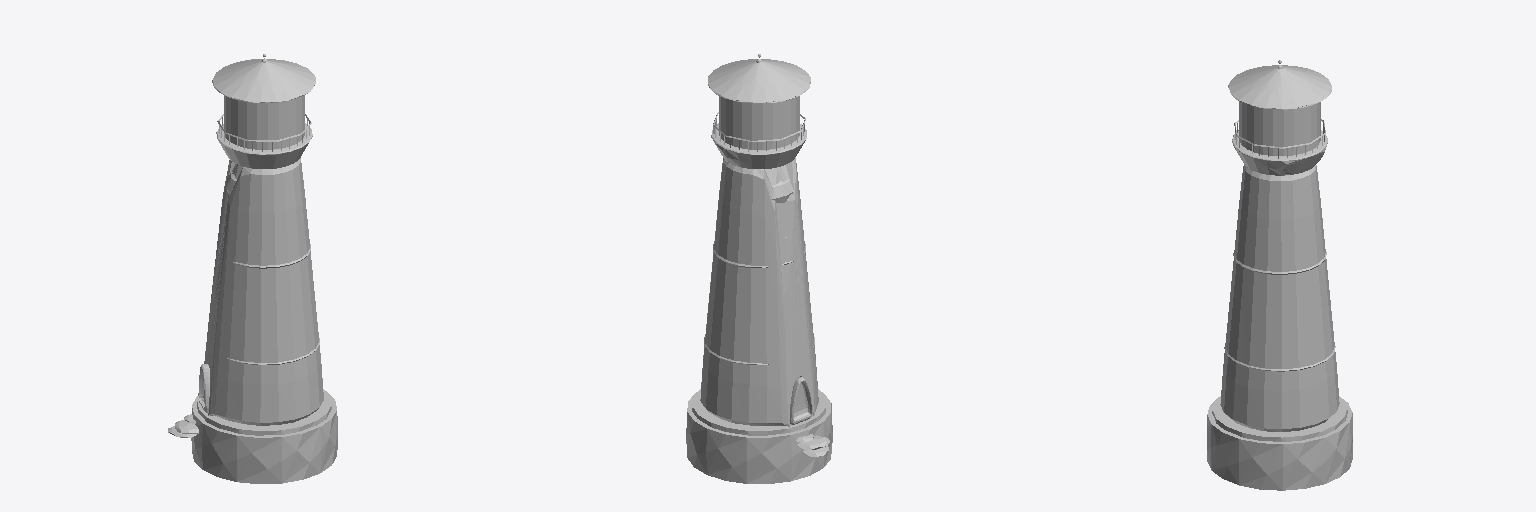
Rendered from highPoly_lighthouse.obj.
3 renders of one model, left to right at view 1: azimuth 30°, elevation 25°; view 2: azimuth 150°, elevation 25°; view 3: azimuth 270°, elevation 25°, orthographic.
Parts seen in each view (by area): view 1: Boole_1, Stairs_1, Sphere_1, Tube, Cylinder_2; view 2: Boole_1, Stairs_1, Sphere_1, Tube, Cylinder_2, Door; view 3: Boole_1, Stairs_1, Sphere_1, Tube, Cylinder_2.
Part boxes in pixels (x1,y1,x2,y2): Boole_1: (204,158,323,425); Stairs_1: (168,389,337,483); Sphere_1: (212,54,315,102); Tube: (224,95,304,149); Cylinder_2: (216,123,312,168); Boole_1: (700,157,818,426); Stairs_1: (686,389,832,483); Sphere_1: (708,54,810,102); Tube: (719,96,799,149); Cylinder_2: (711,123,806,168); Door: (790,377,812,424); Boole_1: (1220,165,1339,431); Stairs_1: (1207,396,1352,490); Sphere_1: (1228,60,1331,109); Tube: (1239,101,1320,155); Cylinder_2: (1232,130,1327,175).
Size of the model in its own units: 0.2114 by 0.5566 by 0.1851.